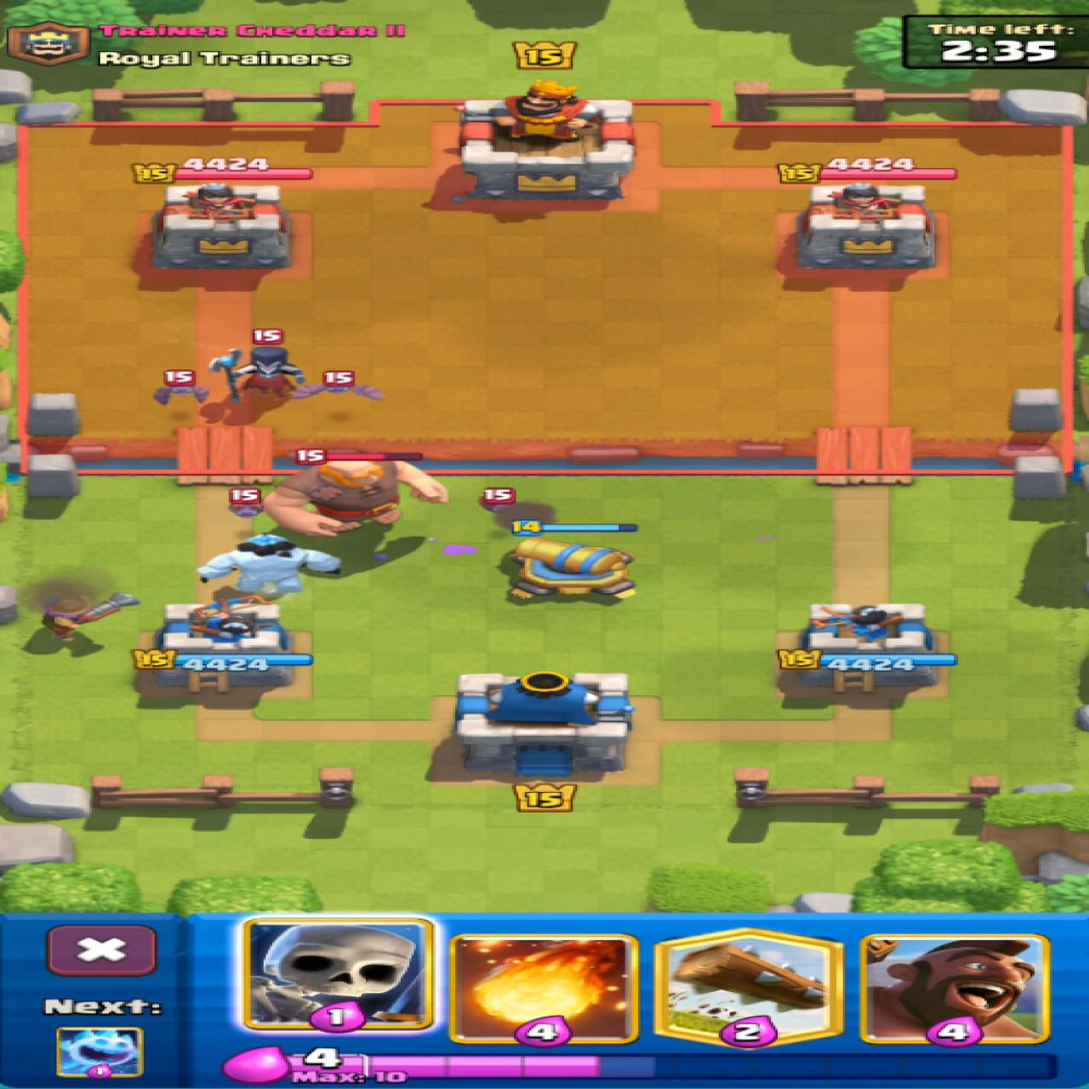Enemy-Bat: (294, 372, 381, 398), (152, 372, 207, 405), (229, 487, 261, 517), (479, 487, 514, 512)
Enemy-KingTower: (457, 80, 632, 198)
Enemy-NightWitch: (209, 347, 303, 400)
Enemy-PrincessTower: (797, 182, 934, 270), (155, 183, 290, 266)
iant: (268, 460, 446, 537)
